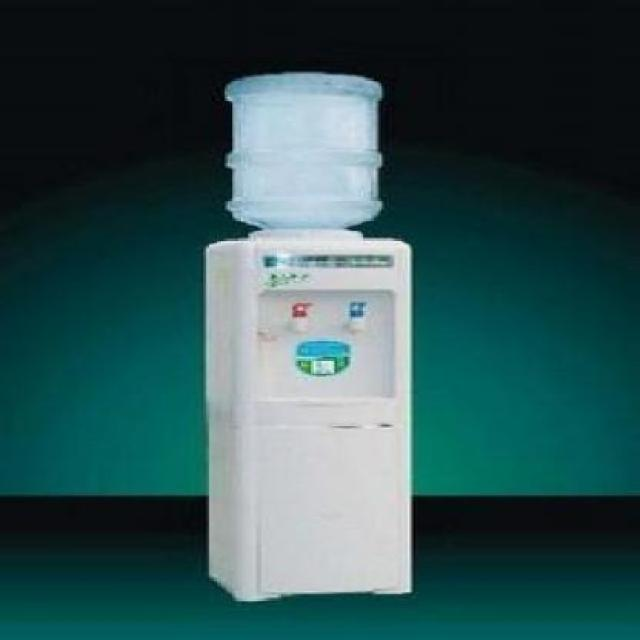cooler: (209, 73, 413, 602)
